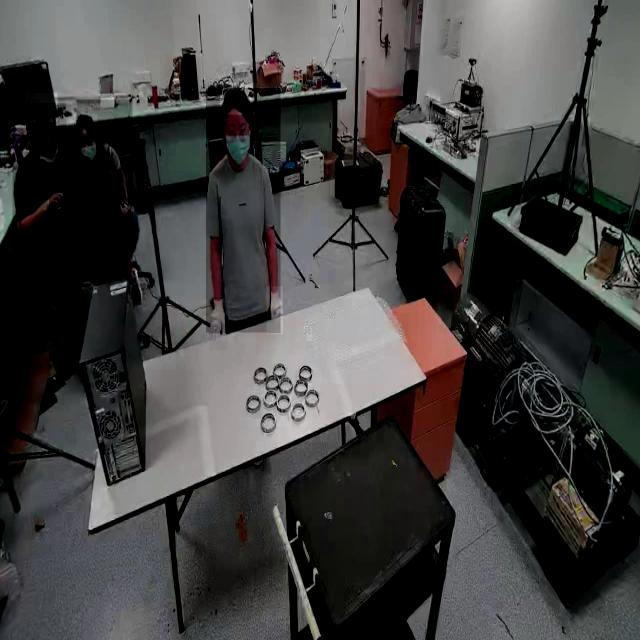face_mask: (224, 126, 256, 166), (78, 135, 99, 168)
face_nomask: (31, 125, 59, 158)
hand_glove: (208, 297, 228, 351), (266, 286, 283, 335)
hand_noglove: (48, 188, 66, 212), (119, 194, 132, 218)
head_nohelmet: (220, 82, 256, 116), (25, 92, 57, 122), (76, 114, 98, 134)
person: (206, 88, 280, 333), (12, 103, 66, 305), (76, 100, 132, 279)
